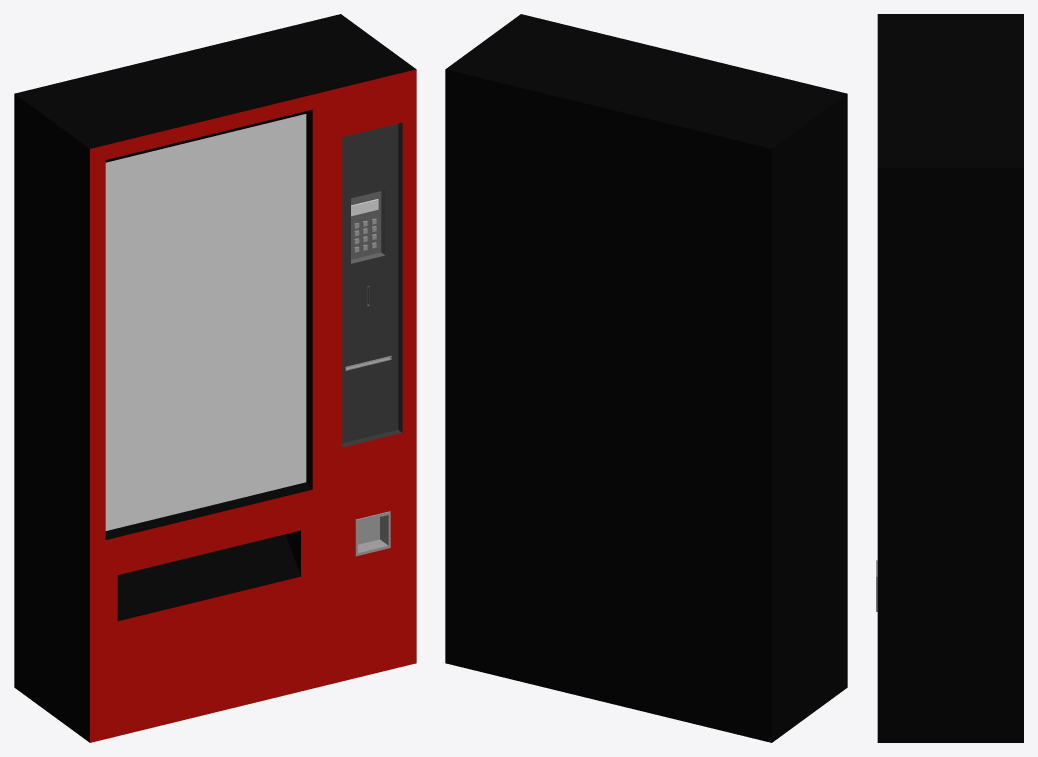
The model's file is P_Snack_Machine.fbx.
3 views of the same model, side by side, from view 1: azimuth 30°, elevation 25°; view 2: azimuth 150°, elevation 25°; view 3: azimuth 270°, elevation 25° (orthographic). The views are drawn at different scales.
Parts seen in each view (by area): view 1: P_Snack_Machine; view 2: P_Snack_Machine; view 3: P_Snack_Machine.
Boxes of the visible parts, bbox=[...] form: P_Snack_Machine: bbox=[14, 14, 416, 742]; P_Snack_Machine: bbox=[445, 14, 847, 742]; P_Snack_Machine: bbox=[876, 14, 1023, 742].
Size of the model in its own units: 686 by 278 by 1193.
